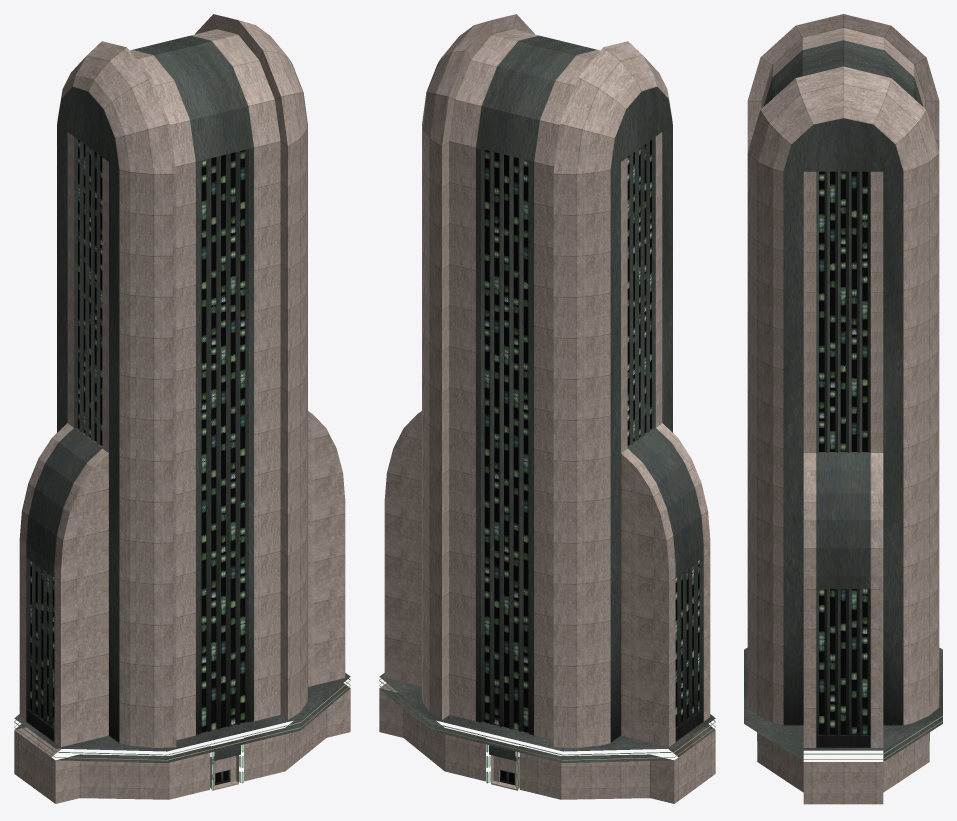
File: thm_corl_skyskraper_s04_l0.fbx
3 renders of one model, left to right at view 1: azimuth 30°, elevation 25°; view 2: azimuth 150°, elevation 25°; view 3: azimuth 270°, elevation 25°, orthographic. The views are drawn at different scales.
Parts seen in each view (by area): view 1: mesh_node; view 2: mesh_node; view 3: mesh_node.
Part boxes in pixels (bbox=[...]): mesh_node: bbox=[14, 14, 350, 803]; mesh_node: bbox=[379, 14, 715, 803]; mesh_node: bbox=[744, 14, 942, 804].
Size of the model in its own units: 60.95 by 142 by 36.8.
